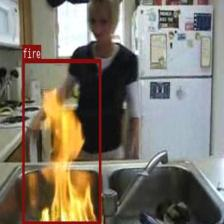fire: (21, 58, 100, 224)
